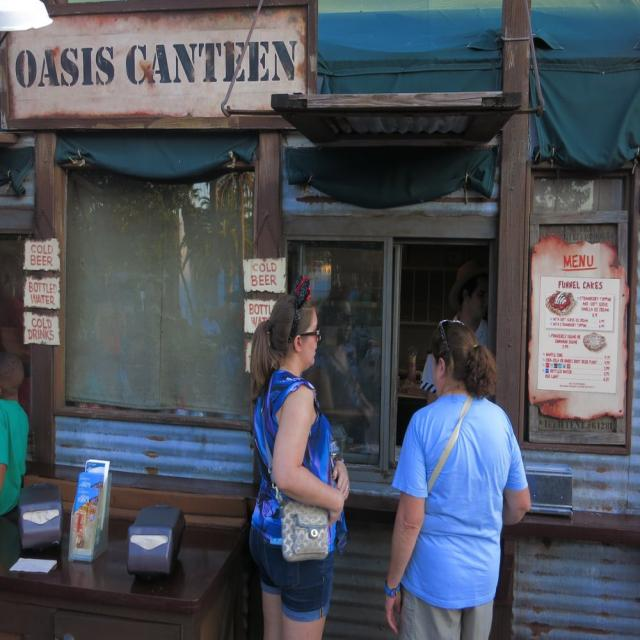body: (382, 317, 536, 639), (247, 272, 356, 640), (308, 287, 374, 455), (419, 261, 494, 406), (0, 350, 30, 551)
